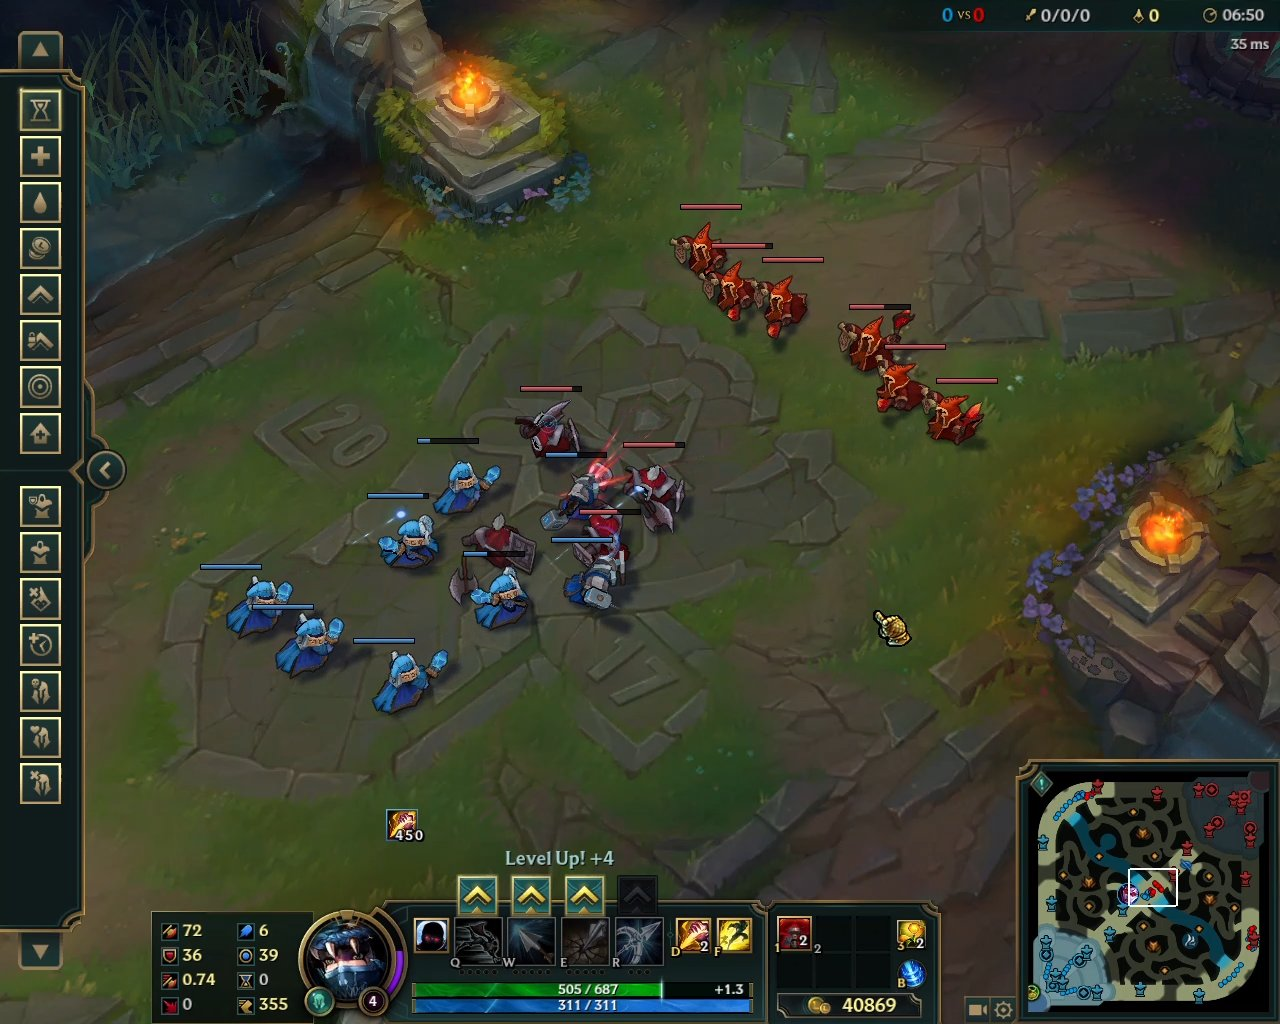EnemyMinion: (621, 436, 693, 539), (510, 380, 591, 469), (747, 256, 824, 346), (697, 242, 775, 326), (867, 341, 948, 418), (835, 300, 916, 374), (667, 203, 742, 282), (914, 377, 997, 449), (568, 509, 639, 573)
